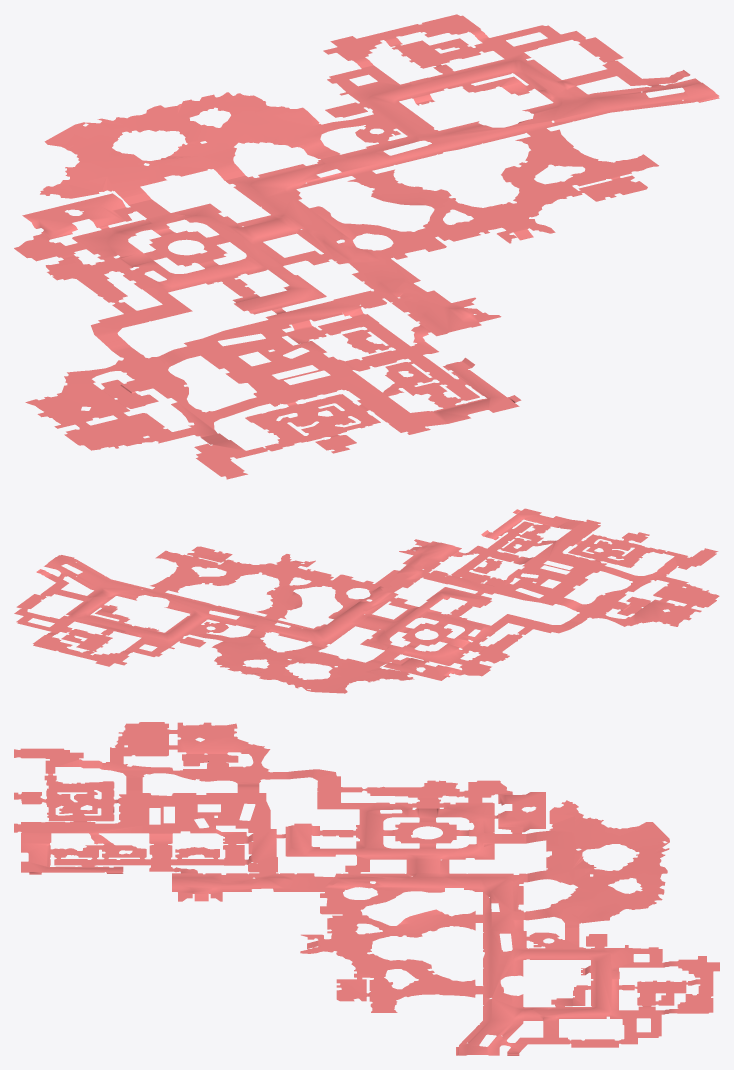
Rendered from Navi_Mesh02.fbx.
The picture shows the model from 3 angles, top to bottom: view 1: azimuth 30°, elevation 25°; view 2: azimuth 150°, elevation 25°; view 3: azimuth 270°, elevation 25°; orthographic projection. The views are drawn at different scales.
Parts seen in each view (by area): view 1: Archery; view 2: Archery; view 3: Archery.
Part boxes in pixels (x1=…): Archery: x1=14, y1=14, x2=719, y2=479; Archery: x1=14, y1=508, x2=719, y2=693; Archery: x1=14, y1=722, x2=719, y2=1055.
Size of the model in its own units: 21919 by 361 by 19250.
